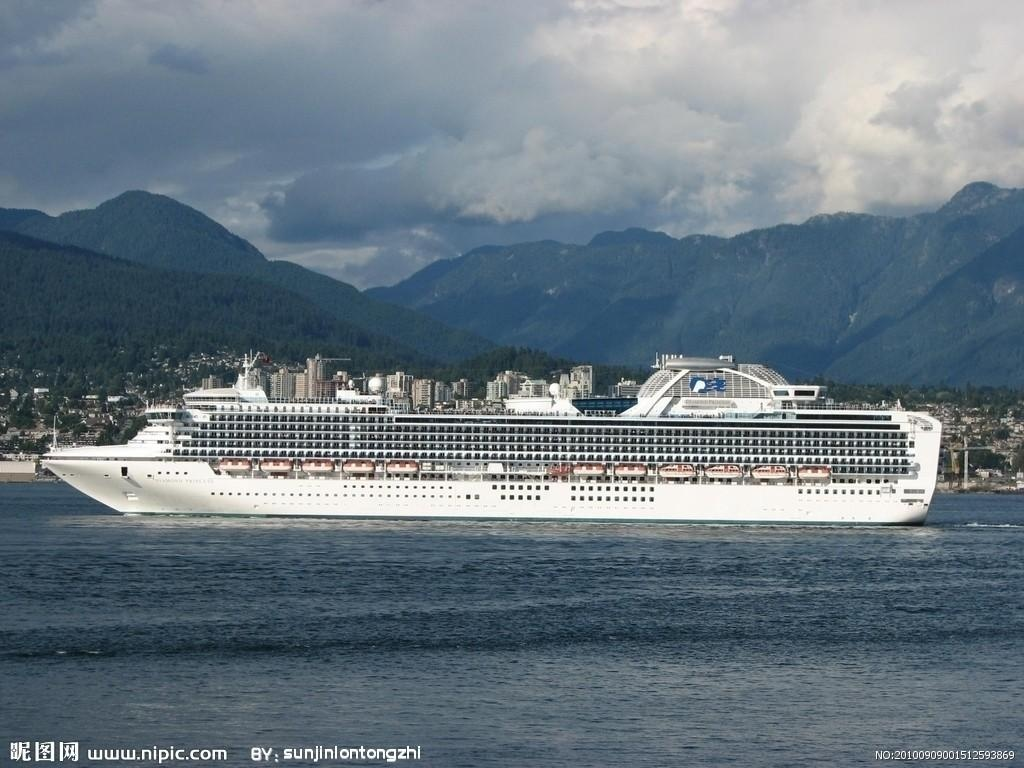youlun: (40, 349, 944, 521)
